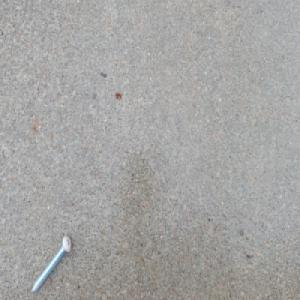Nail: (30, 233, 72, 295)
